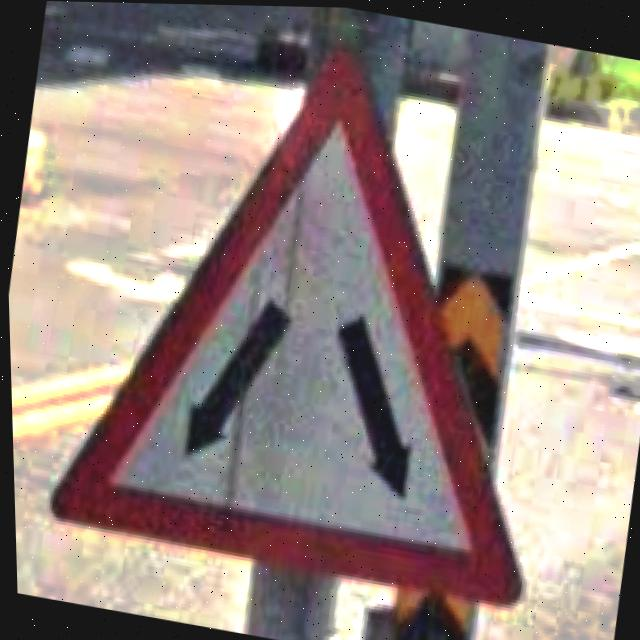diverge: (45, 46, 520, 604)
